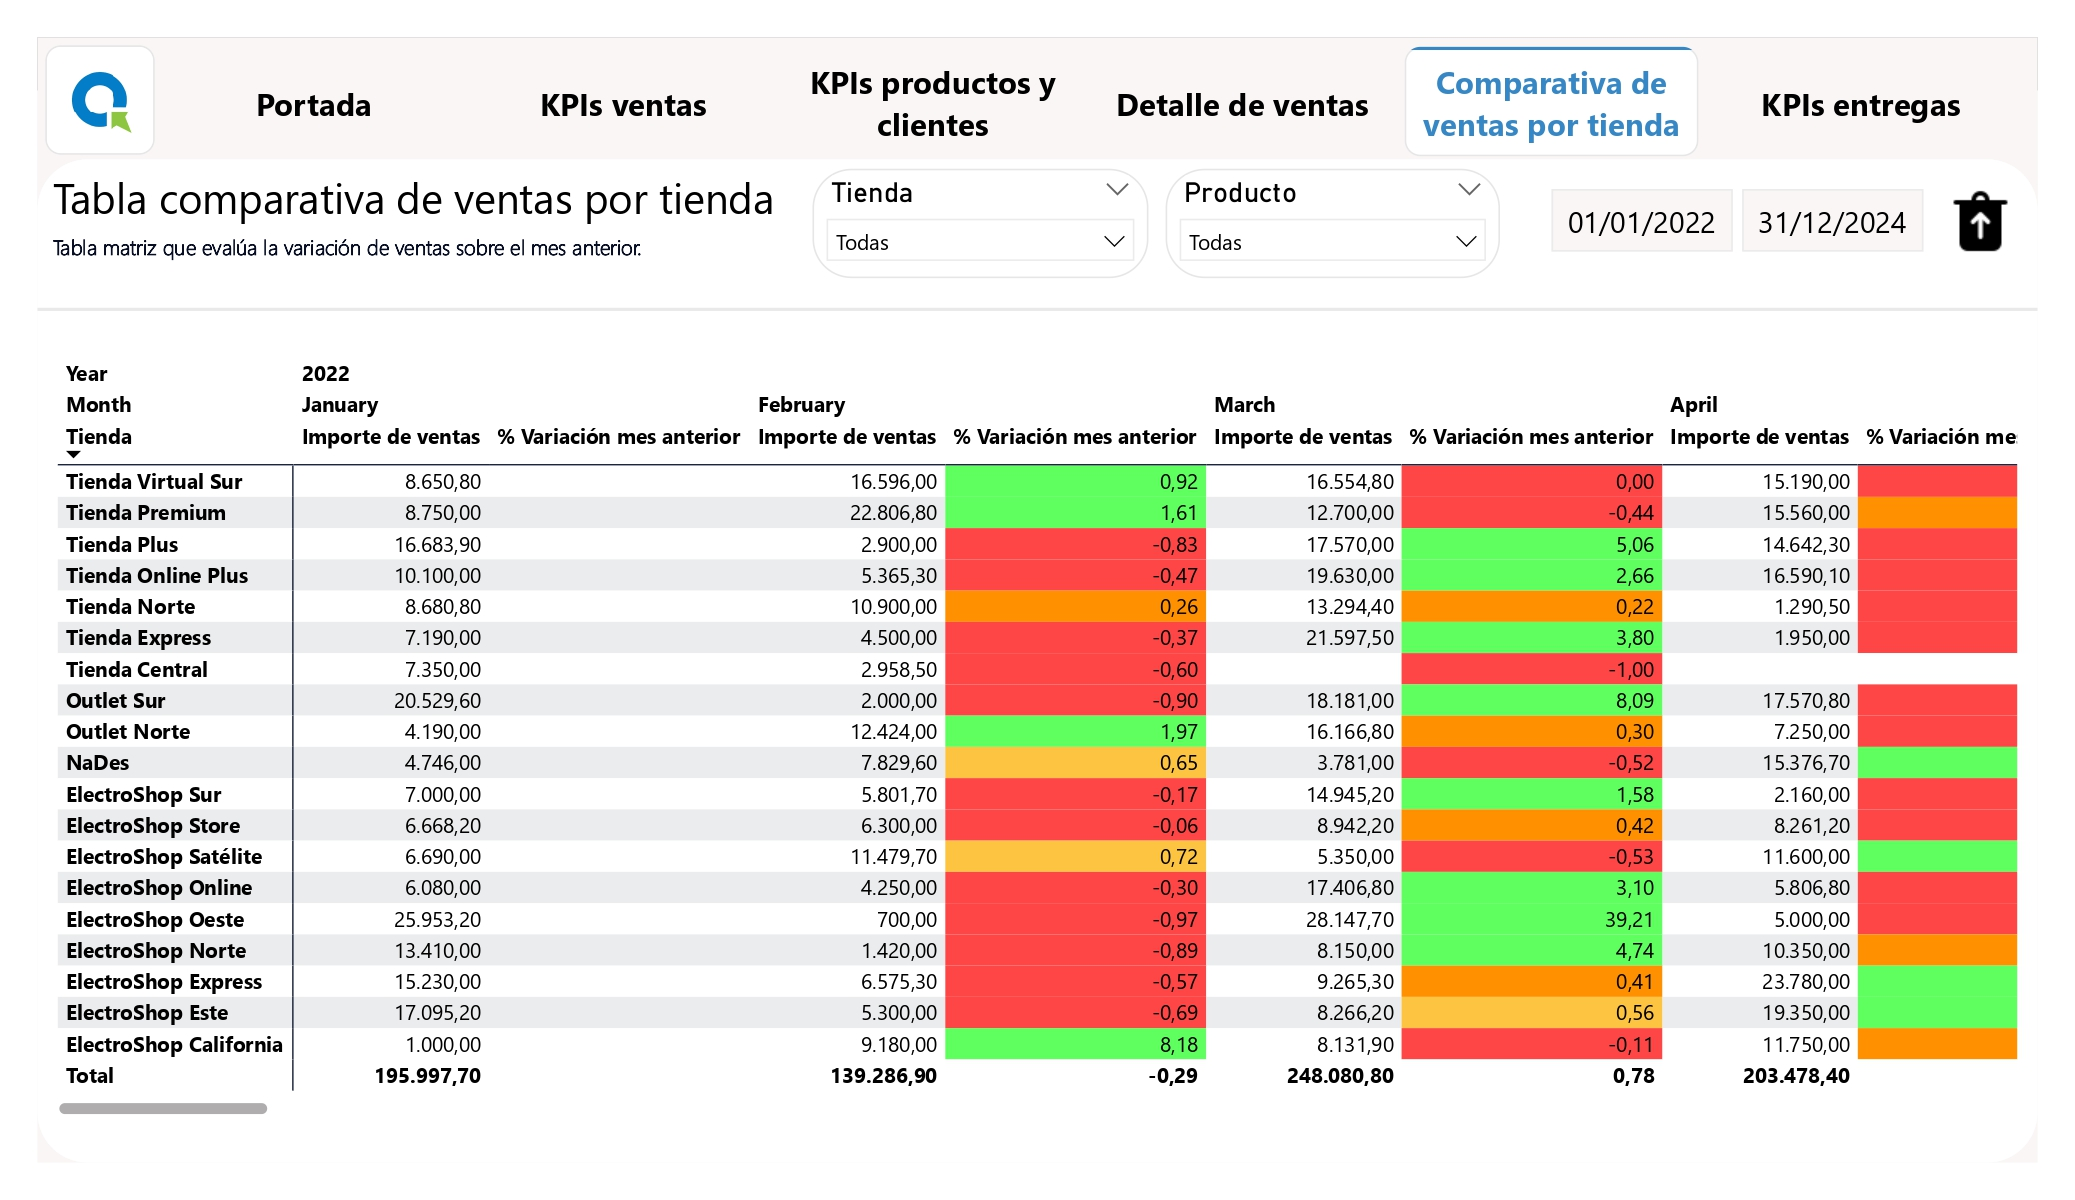

The page's visual inventory and layout, read from the dashboard file:
{"tool":"powerbi","page":{"name":"Comparativa de ventas por tienda","canvas":[1280,720],"ordinal":4},"visuals":[{"type":"shape","box":[0,78.3,1280,641.7],"z":0},{"type":"pageNavigator","box":[82.7,5.8,1183.1,70],"z":1000},{"type":"image","box":[5.4,5.4,70,70],"z":2000},{"type":"textbox","title":"Tabla comparativa de ventas por tienda","box":[5,84.2,480,70],"z":3000},{"type":"shape","box":[0,168.3,1280,11.7],"z":4000},{"type":"slicer","fields":{"Values":["Dim_Tienda.Tienda"]},"box":[495.6,84.3,215.7,70],"z":5000},{"type":"slicer","fields":{"Values":["Dim_Producto.Producto"]},"box":[722,84.3,214.3,70],"z":6000},{"type":"pivotTable","fields":{"Columns":["Dim_Tiempo.Tiempo_Key.Variación.Date Hierarchy.Year","Dim_Tiempo.Tiempo_Key.Variación.Date Hierarchy.Month"],"Rows":["Dim_Tienda.Tienda","Dim_Producto.Producto"],"Values":["Sum(Fact_Ventas.PrecioVentaTotal)","Fact_Ventas.VariacionVentas_MesAnterior"]},"box":[8.3,200,1263.3,495],"z":7000},{"type":"slicer","fields":{"Values":["Dim_Tiempo.Tiempo_Key"]},"box":[955.8,86.7,261.7,60],"z":8000},{"type":"image","box":[1216.7,91.7,53.3,50],"z":9000}]}

Visuals, with their boxes on the page's 1280x720 design canvas (x1, y1, x2, y2). These are canvas units, not pixel positions in the 2075x1200 screenshot, which may show the page scaled, cropped or inside an application window:
shape: bbox=[0, 78, 1280, 720]
pageNavigator: bbox=[83, 6, 1266, 76]
image: bbox=[5, 5, 75, 75]
"Tabla comparativa de ventas por tienda" textbox: bbox=[5, 84, 485, 154]
shape: bbox=[0, 168, 1280, 180]
slicer - Dim_Tienda.Tienda: bbox=[496, 84, 711, 154]
slicer - Dim_Producto.Producto: bbox=[722, 84, 936, 154]
pivotTable - Dim_Tiempo.Tiempo_Key.Variación.Date Hierarchy.Year x Dim_Tiempo.Tiempo_Key.Variación.Date Hierarchy.Month: bbox=[8, 200, 1272, 695]
slicer - Dim_Tiempo.Tiempo_Key: bbox=[956, 87, 1218, 147]
image: bbox=[1217, 92, 1270, 142]
